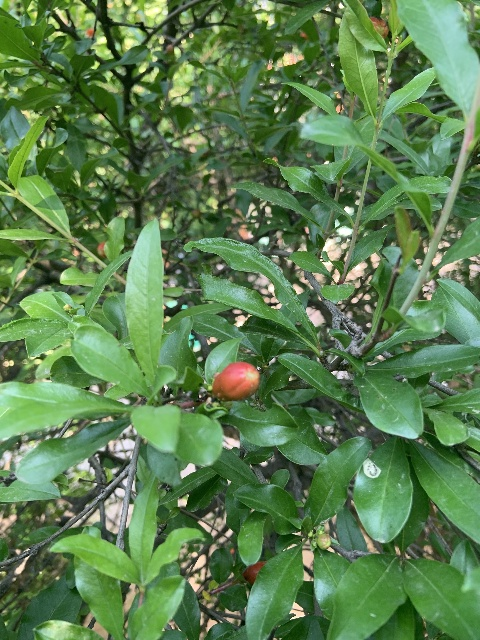bud: (212, 361, 260, 400), (367, 16, 389, 40)
